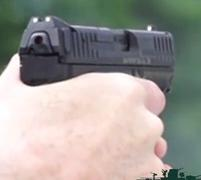gun: (1, 1, 201, 180)
